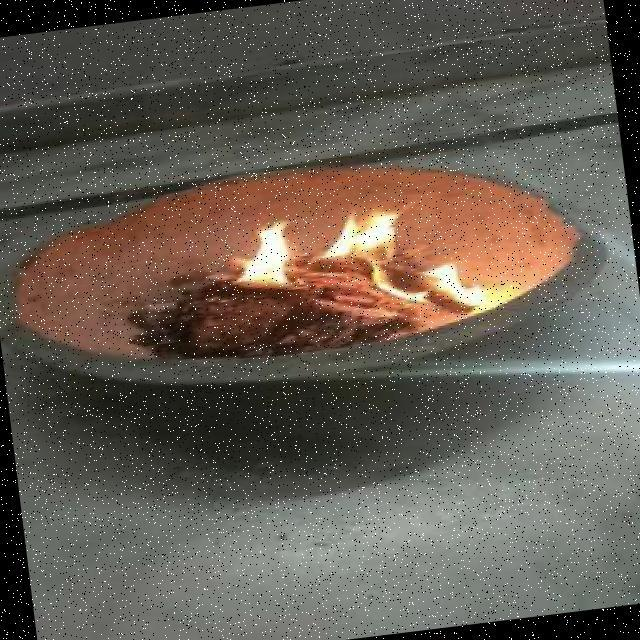Fire: (232, 180, 512, 343)
